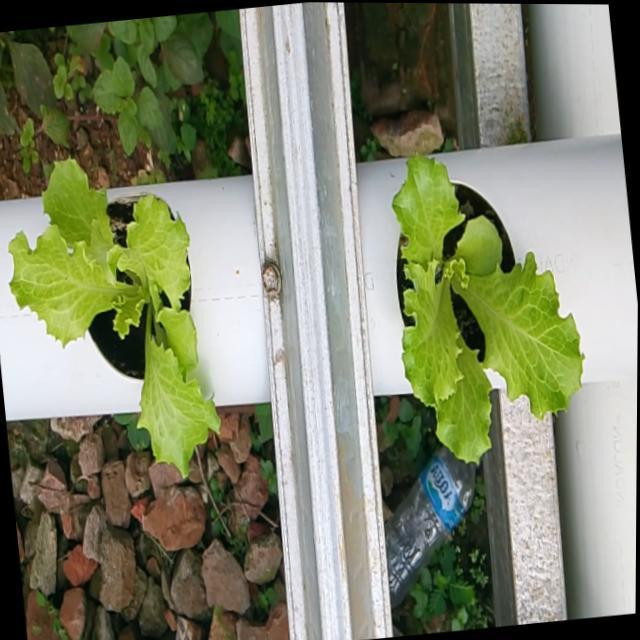Baby: (5, 157, 218, 476), (390, 149, 583, 461)
